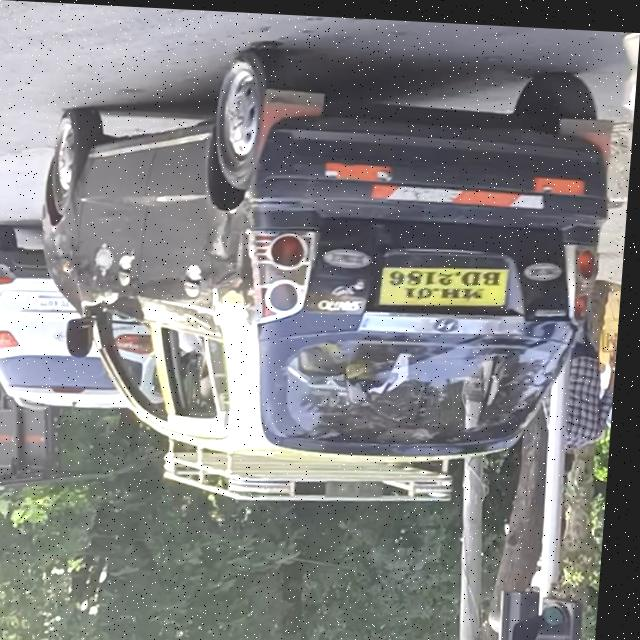plate: (373, 254, 519, 306)
